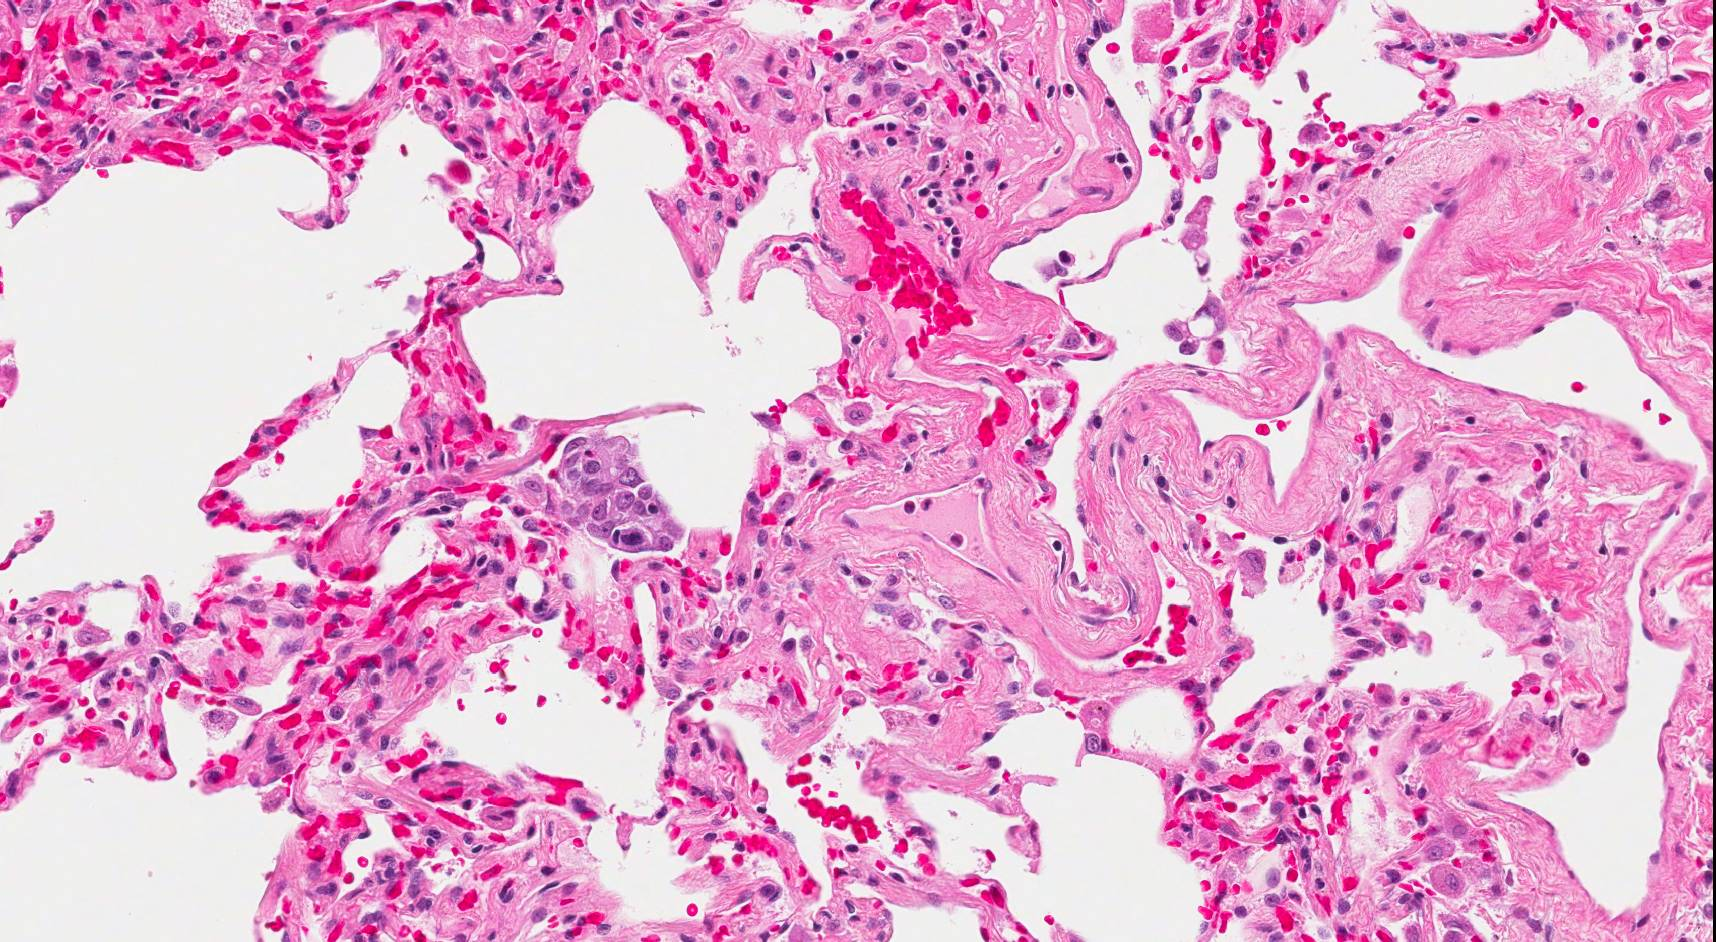stas: (549, 431, 685, 557)
